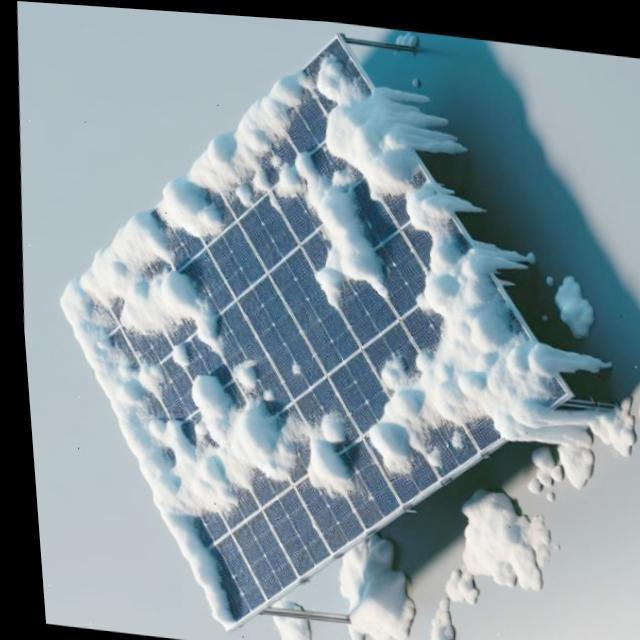Anomaly Solar Panel: (18, 31, 579, 625)
Snow: (19, 207, 391, 629), (254, 174, 565, 492), (139, 57, 365, 271), (282, 43, 425, 210), (260, 138, 391, 312), (156, 336, 190, 371)
